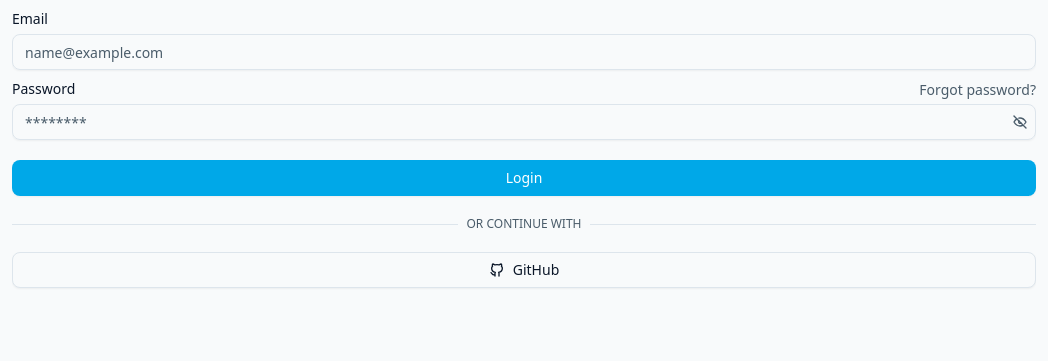
UserAuthForm › shows validation errors for invalid inputs
Click the button "Login" at (524, 178), box 12,160 -> 1036,196
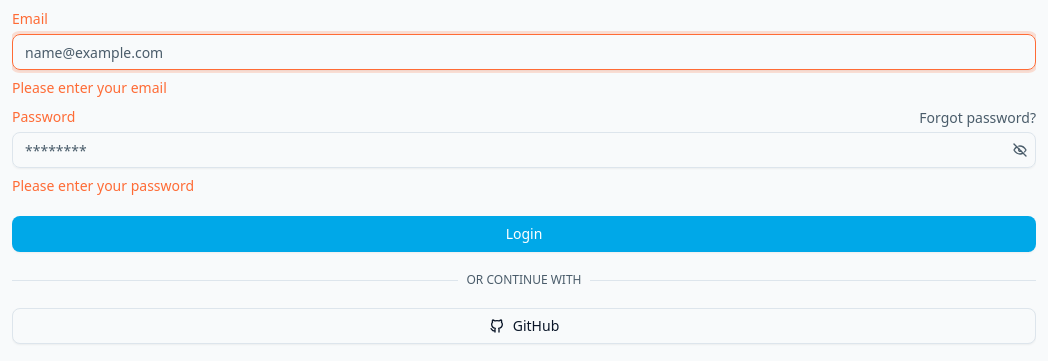
expect the text "Please enter your email" is shown: met, box 12,78 -> 167,97
expect the text "Please enter your password" is shown: met, box 12,176 -> 194,195
